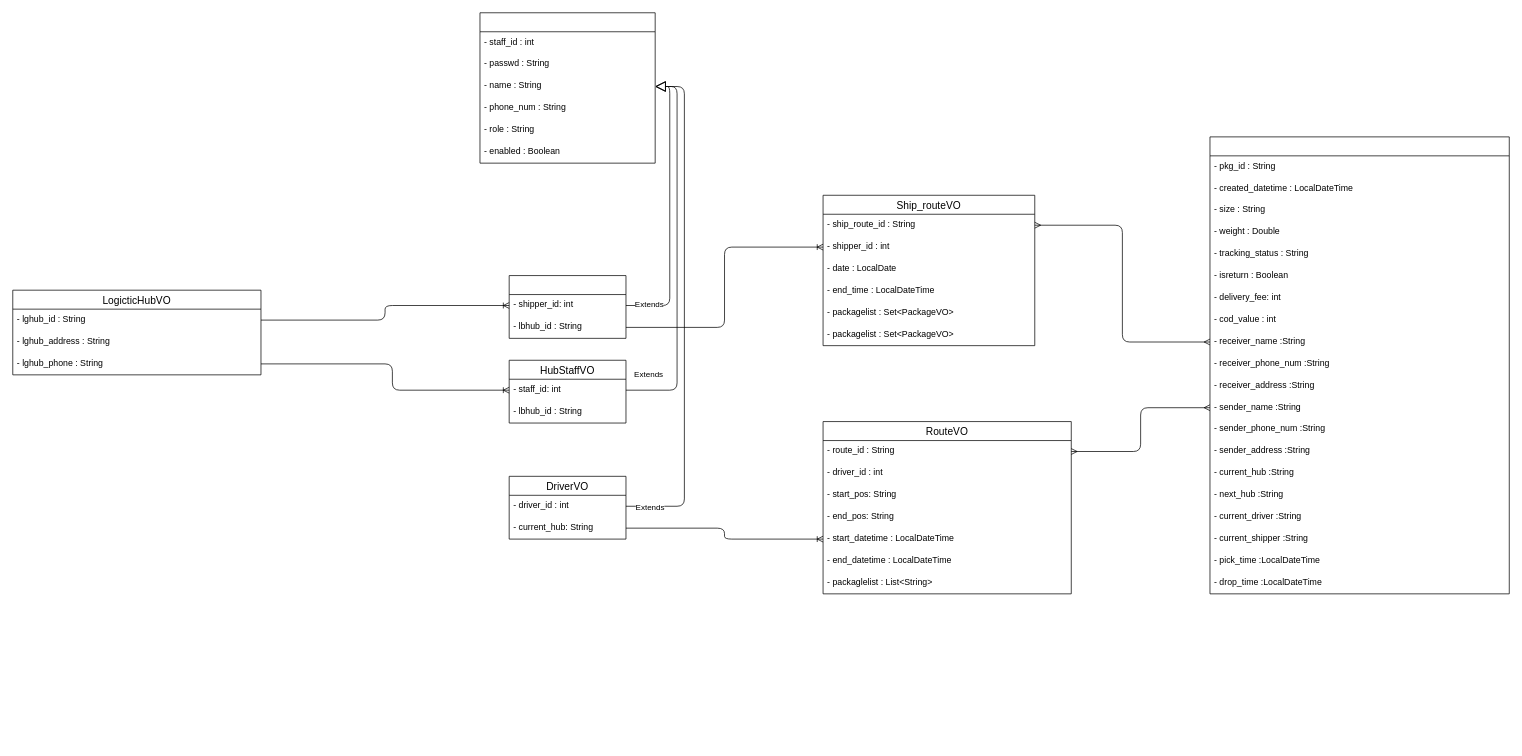
Image size: 1522x756. Some labels were removed from this diagram. Here are the shapes that lost their labels. From the top down, the box of each, then its label:
(479, 12, 655, 163): Account
(508, 275, 626, 338): ShipperVO
(1209, 136, 1509, 594): Package VO
